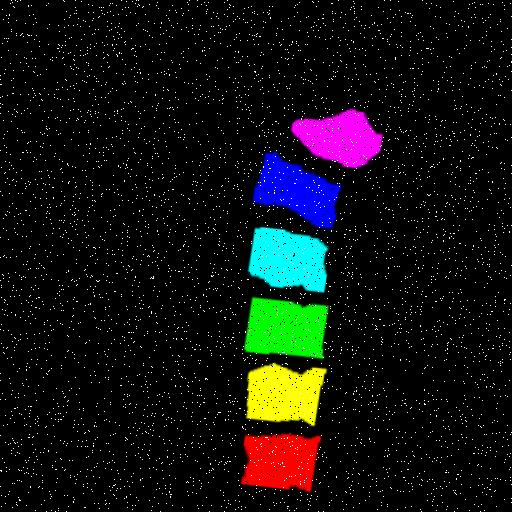L1: (252, 429, 328, 486)
L2: (256, 359, 332, 420)
L3: (253, 293, 334, 354)
L4: (253, 223, 332, 287)
L5: (256, 149, 342, 223)
S1: (293, 105, 384, 162)
